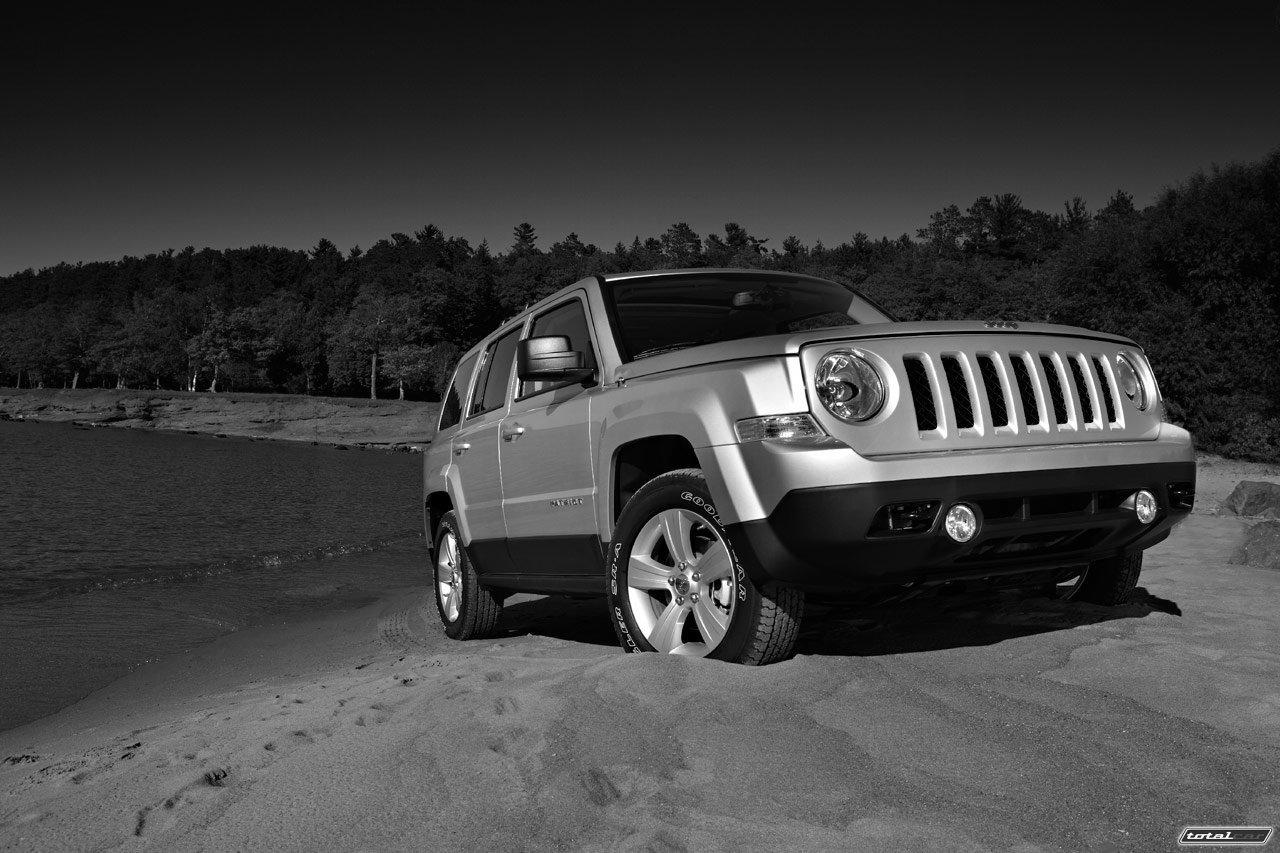car: (413, 255, 1206, 671)
